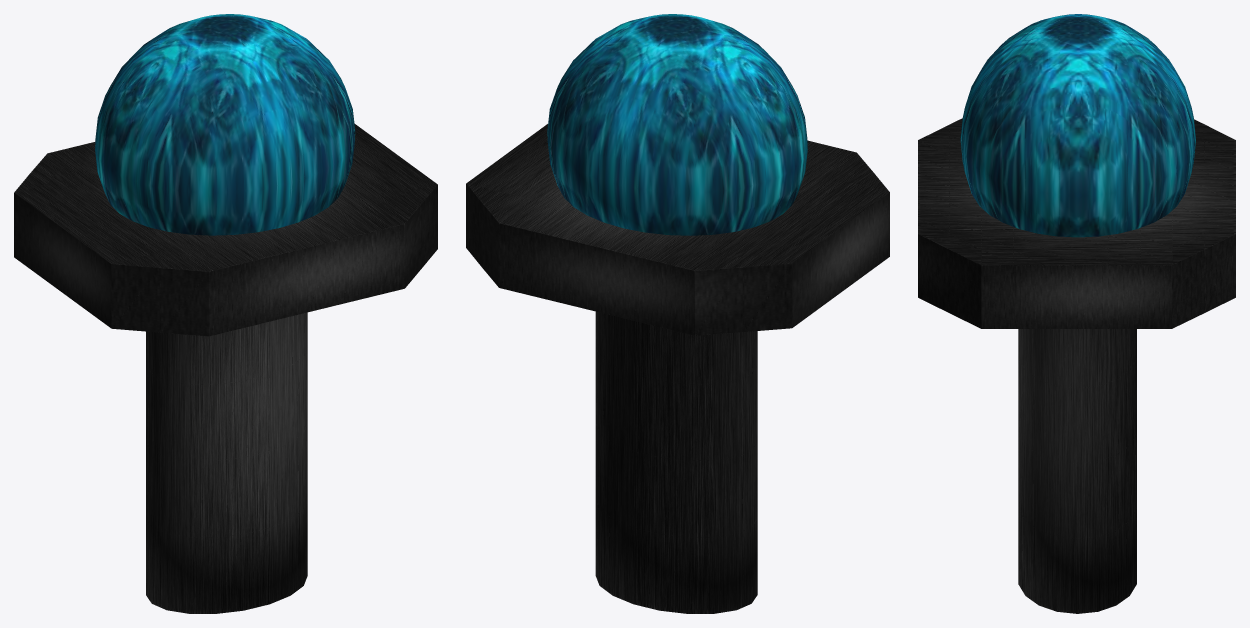
Rendered from Leuchte.FBX.
The picture shows the model from 3 angles, left to right: view 1: azimuth 30°, elevation 25°; view 2: azimuth 150°, elevation 25°; view 3: azimuth 270°, elevation 25°; orthographic projection.
Visible parts, largest first — view 1: Mittelteil, Leuchte, Stiel; view 2: Mittelteil, Leuchte, Stiel; view 3: Leuchte, Mittelteil, Stiel.
Part boxes in pixels (box(x1,y1,x2,y2)): Mittelteil: box(14, 123, 437, 336); Leuchte: box(95, 14, 355, 235); Stiel: box(146, 312, 307, 613); Mittelteil: box(466, 124, 889, 335); Leuchte: box(547, 14, 807, 235); Stiel: box(595, 311, 757, 613); Leuchte: box(960, 14, 1195, 237); Mittelteil: box(918, 118, 1235, 328); Stiel: box(1018, 329, 1136, 613).
Size of the model in its own units: 31.67 by 51.96 by 27.19.
Materials: 2 (2 with a texture image).
